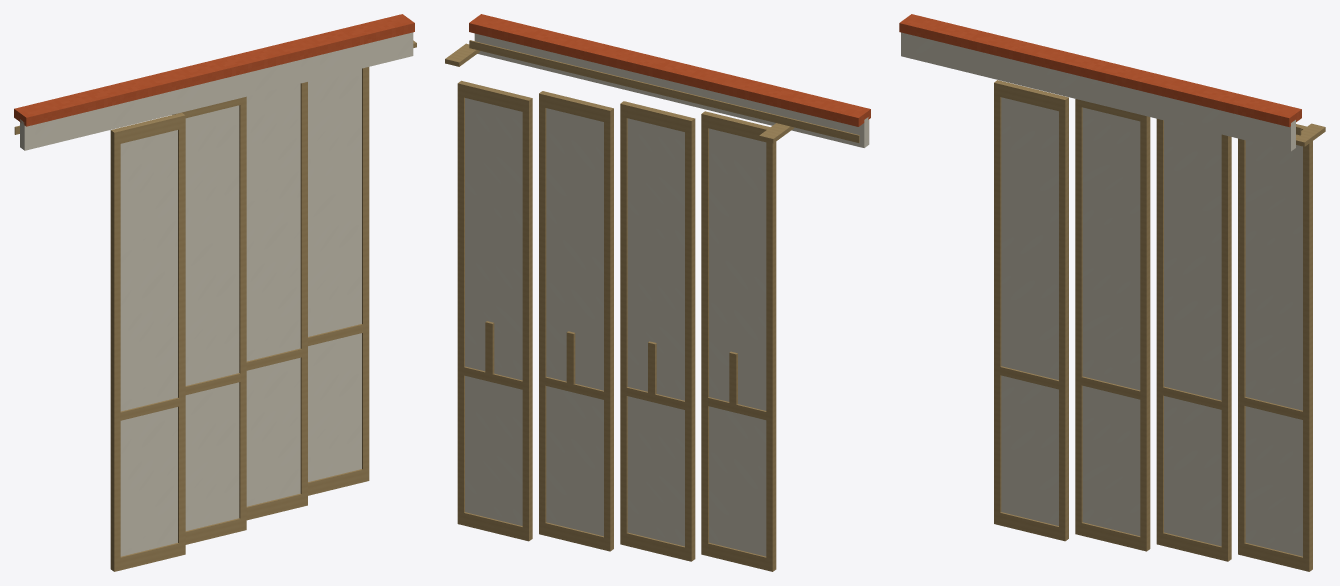
The model's file is living_service_left_r001.glb.
The picture shows the model from 3 angles, left to right: view 1: azimuth 30°, elevation 25°; view 2: azimuth 150°, elevation 25°; view 3: azimuth 330°, elevation 25°; orthographic projection.
Visible parts, largest first — view 1: Panel_L0_field, Panel_L1_field, Panel_R1_field, Panel_R0_field, track_back, track_cap, Panel_L0_stile_left, Panel_L0_stile_right, Panel_L1_stile_right, Panel_R1_stile_right, Panel_R0_stile_right, Panel_L0_top_rail (+8 smaller); view 2: Panel_L1_field, Panel_R0_field, Panel_R1_field, Panel_L0_field, track_cap, track_back, Panel_L1_stile_left, Panel_R0_stile_left, Panel_L0_stile_left, Panel_R1_stile_left, Panel_R0_stile_right, Panel_L1_stile_right (+15 smaller); view 3: Panel_L1_field, Panel_L0_field, Panel_R1_field, Panel_R0_field, track_back, track_cap, Panel_L1_stile_right, Panel_R1_stile_right, Panel_L0_stile_right, Panel_R0_stile_right, Panel_L0_stile_left, Panel_L1_stile_left (+11 smaller).
Part boxes in pixels (box(x1,y1,x2,y2)): Panel_L0_field: box(120, 130, 177, 556); Panel_L1_field: box(185, 105, 239, 530); Panel_R1_field: box(246, 83, 300, 506); Panel_R0_field: box(308, 68, 361, 481); track_back: box(20, 32, 413, 150); track_cap: box(14, 14, 414, 126); Panel_L0_stile_left: box(110, 128, 120, 571); Panel_L0_stile_right: box(176, 113, 185, 555); Panel_L1_stile_right: box(239, 96, 246, 531); Panel_R1_stile_right: box(300, 82, 307, 506); Panel_R0_stile_right: box(362, 67, 369, 482); Panel_L0_top_rail: box(117, 114, 178, 143); Panel_L1_field: box(627, 118, 684, 546); Panel_R0_field: box(465, 98, 522, 525); Panel_R1_field: box(546, 108, 603, 536); Panel_L0_field: box(709, 128, 766, 556); track_cap: box(469, 14, 870, 126); track_back: box(474, 33, 869, 147); Panel_L1_stile_left: box(685, 117, 695, 561); Panel_R0_stile_left: box(522, 96, 532, 541); Panel_L0_stile_left: box(766, 127, 776, 571); Panel_R1_stile_left: box(604, 107, 613, 551); Panel_R0_stile_right: box(457, 80, 467, 525); Panel_L1_stile_right: box(620, 101, 629, 545); Panel_L1_field: box(1082, 107, 1140, 535); Panel_L0_field: box(1001, 97, 1058, 525); Panel_R1_field: box(1164, 120, 1221, 546); Panel_R0_field: box(1245, 140, 1302, 556); track_back: box(901, 32, 1295, 151); track_cap: box(899, 14, 1301, 127); Panel_L1_stile_right: box(1140, 114, 1150, 551); Panel_R1_stile_right: box(1221, 134, 1231, 561); Panel_L0_stile_right: box(1059, 96, 1068, 541); Panel_R0_stile_right: box(1303, 126, 1312, 571); Panel_L0_stile_left: box(994, 80, 1003, 525); Panel_L1_stile_left: box(1075, 99, 1082, 535).
Bounding box in the file's own units: 2.79 × 3.22 × 0.495.
3 materials, 3 textured.
